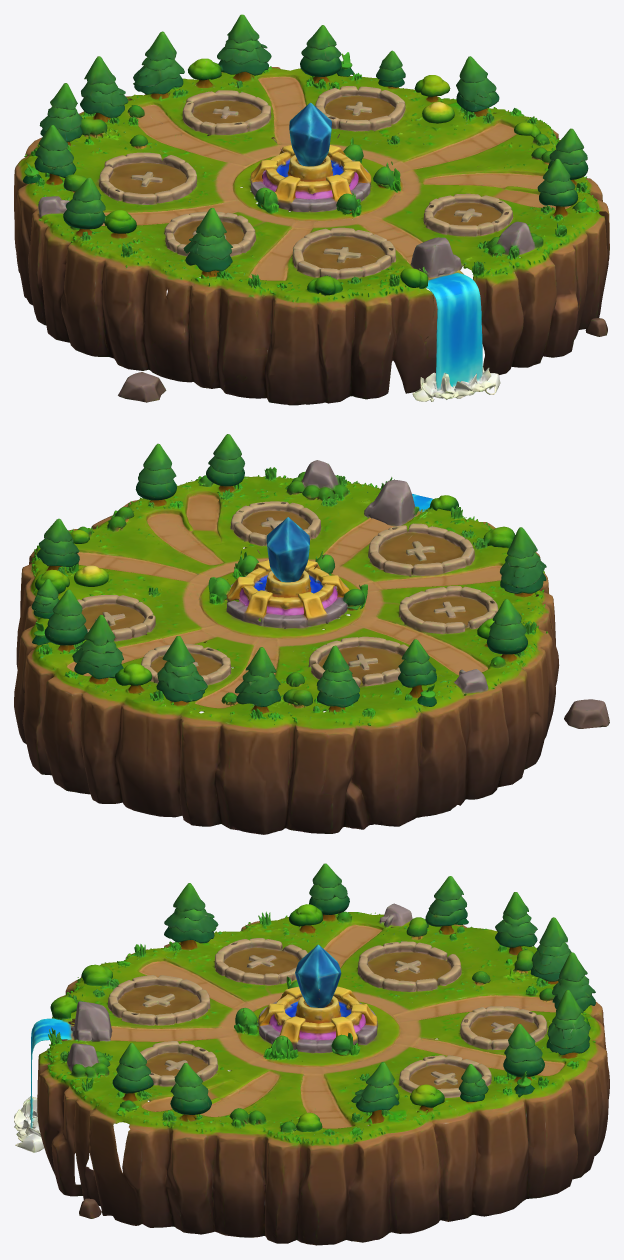
3 renders of one model, top to bottom at view 1: azimuth 30°, elevation 25°; view 2: azimuth 150°, elevation 25°; view 3: azimuth 270°, elevation 25°, orthographic. The views are drawn at different scales.
Parts seen in each view (by area): view 1: world; view 2: world; view 3: world.
Part boxes in pixels (box(x1,y1,x2,y2)): world: box(14, 14, 609, 405); world: box(14, 434, 609, 834); world: box(14, 863, 609, 1245).
Size of the model in its own units: 0.96 by 0.3499 by 1.
Materials: 1 (1 with a texture image).
